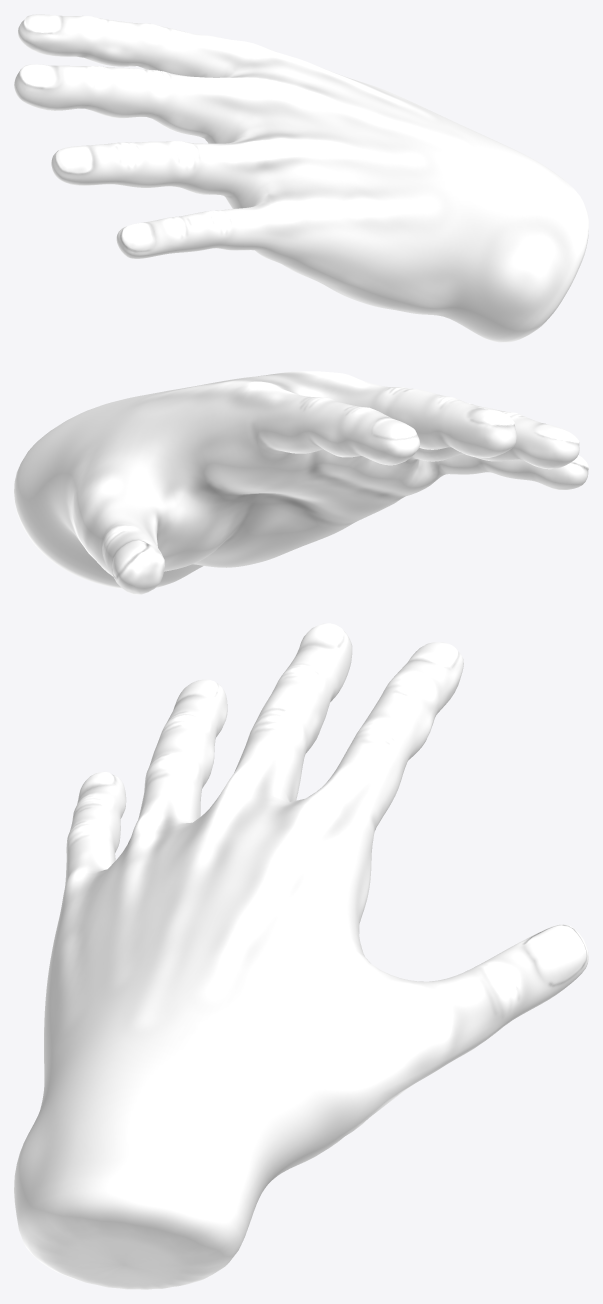
File: left-hand.gltf
The picture shows the model from 3 angles, top to bottom: view 1: azimuth 30°, elevation 25°; view 2: azimuth 150°, elevation 25°; view 3: azimuth 270°, elevation 25°; orthographic projection. The views are drawn at different scales.
Visible parts, largest first — view 1: Group16023.001; view 2: Group16023.001; view 3: Group16023.001.
Boxes of the visible parts, x1,y1,x2,y2 form: Group16023.001: (14,14,588,342); Group16023.001: (14,371,588,594); Group16023.001: (14,623,588,1289).
Size of the model in its own units: 0.7998 by 0.4741 by 0.5899.
Materials: 1 (1 with a texture image).
